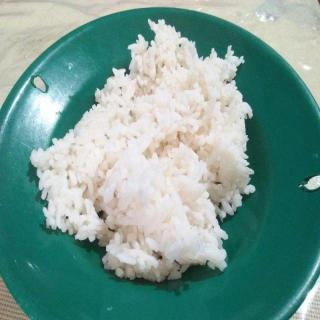Nasi: (29, 18, 257, 284)
